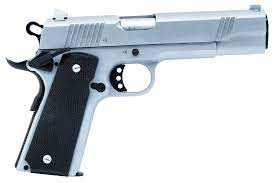weapon: (9, 1, 270, 177)
